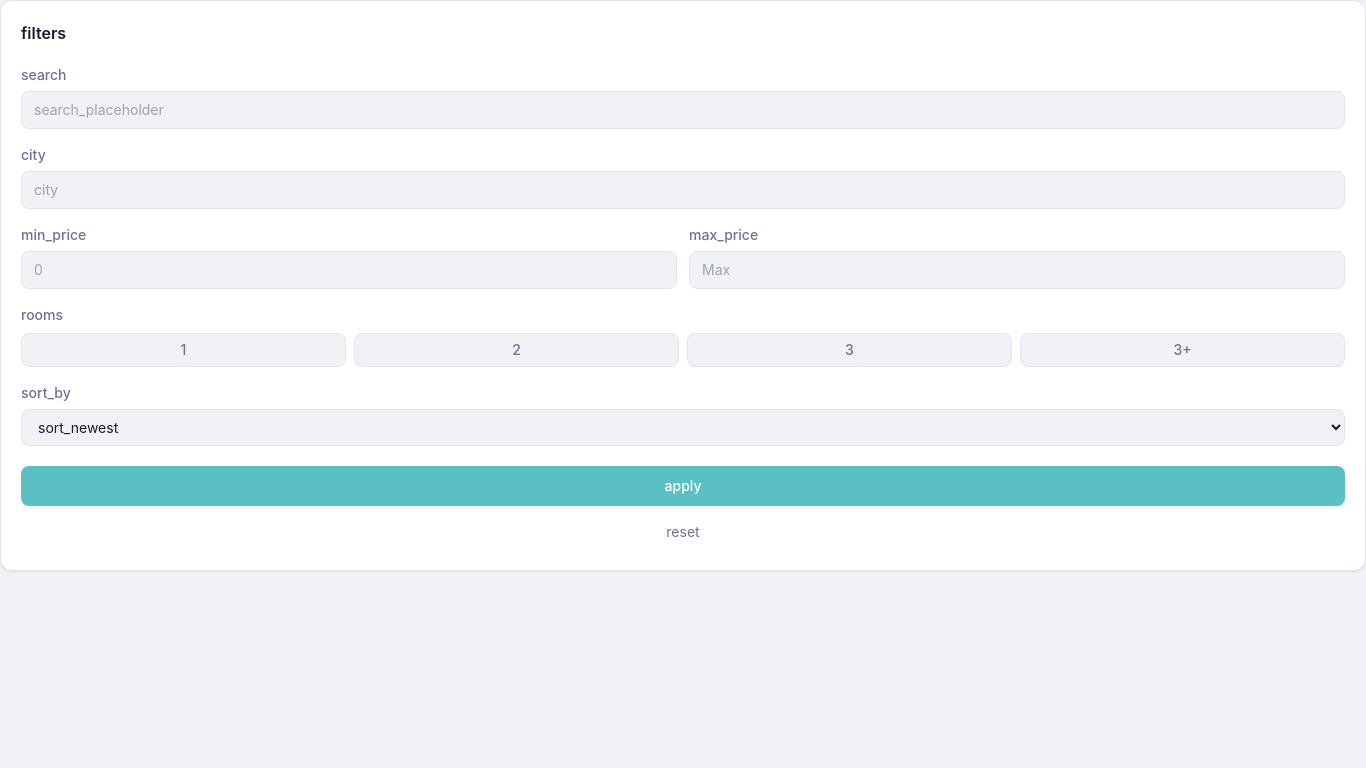
it: FilterBar › resets all filters when reset is clicked
The image size is (1366, 768).
Type "Kyiv" into the field with placeholder "city" at (683, 190), box [21,171,1345,209]
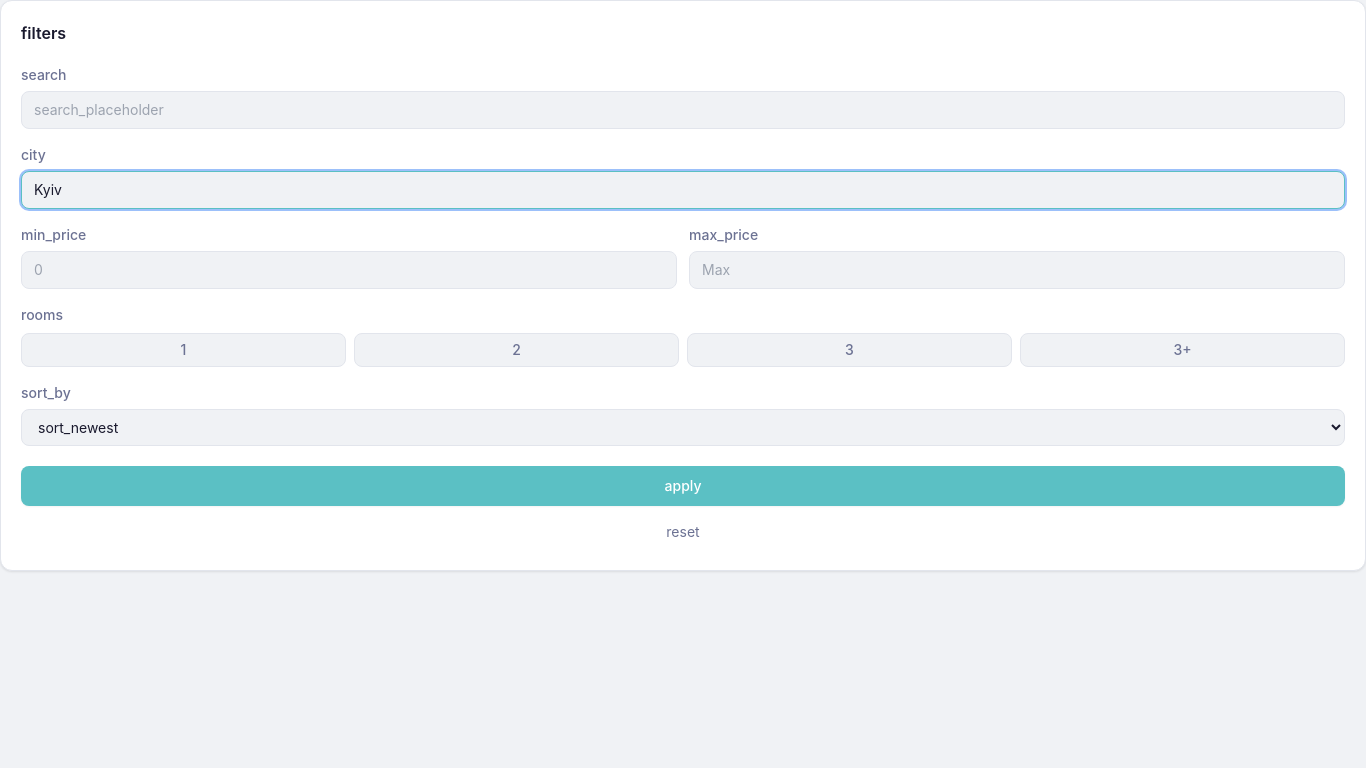
Click the button "2" at (516, 350), box [354,333,679,367]
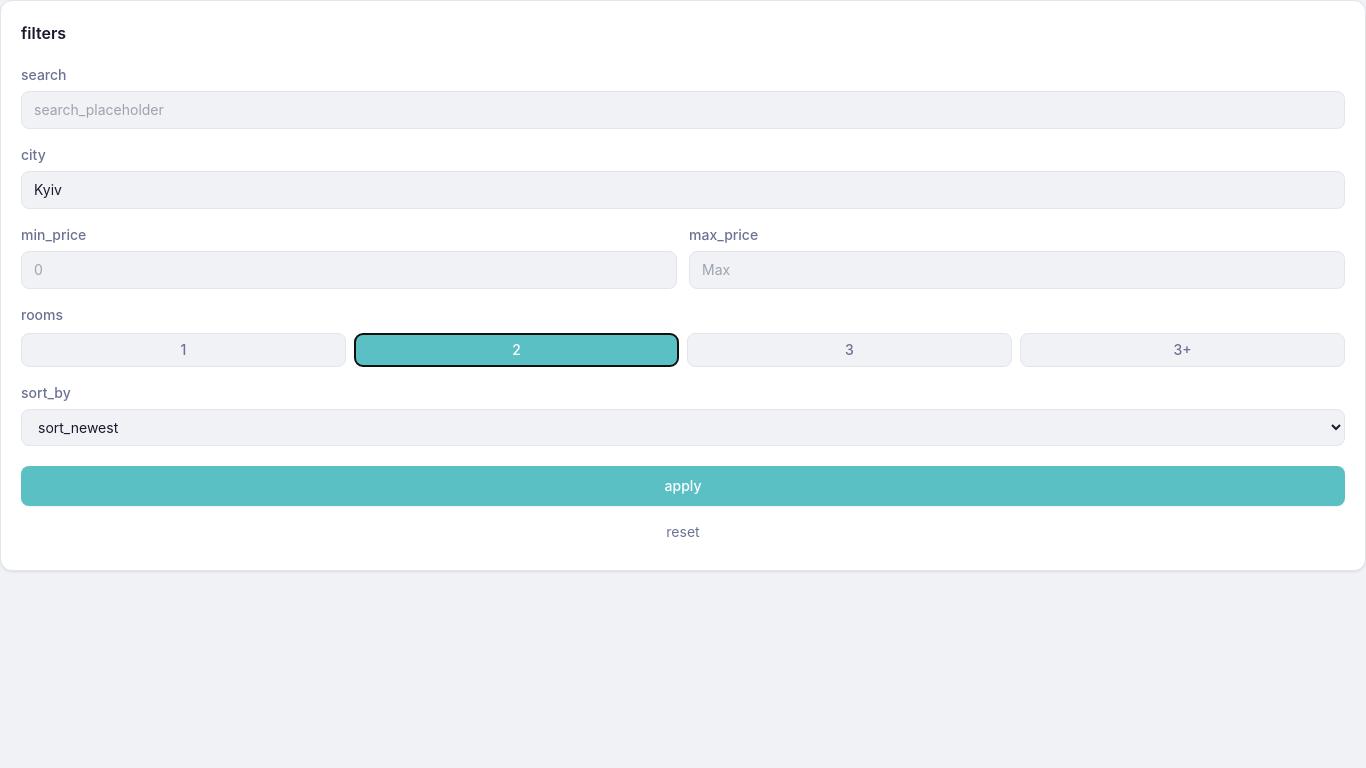
Click the button "reset" at (683, 532), box [21,514,1345,550]
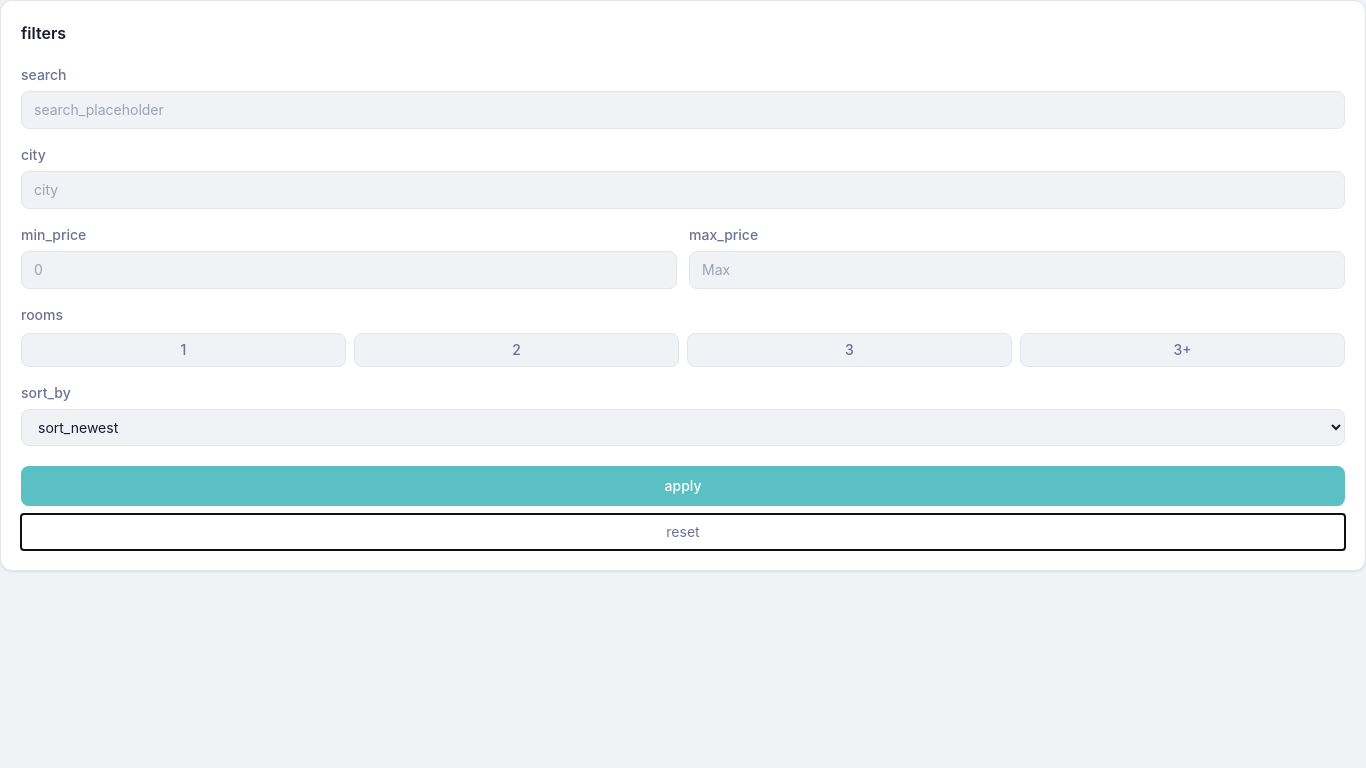
Expected: the field with placeholder "city" is empty, [21,171,1345,209]
